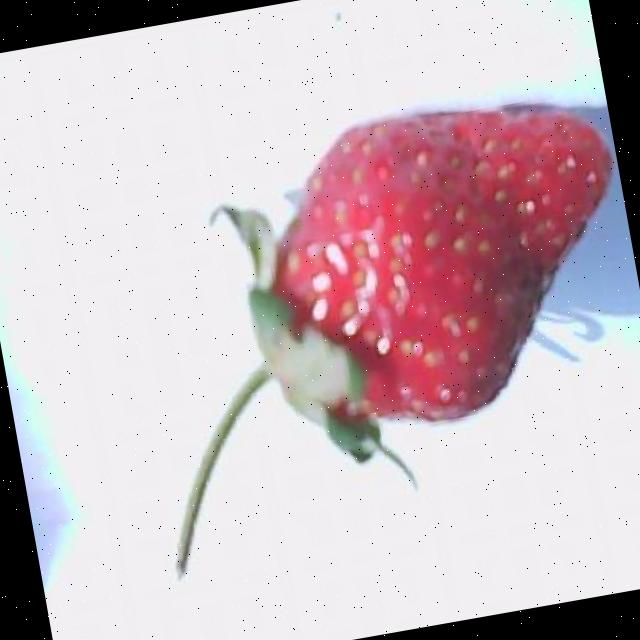strawberry: (181, 109, 610, 569)
